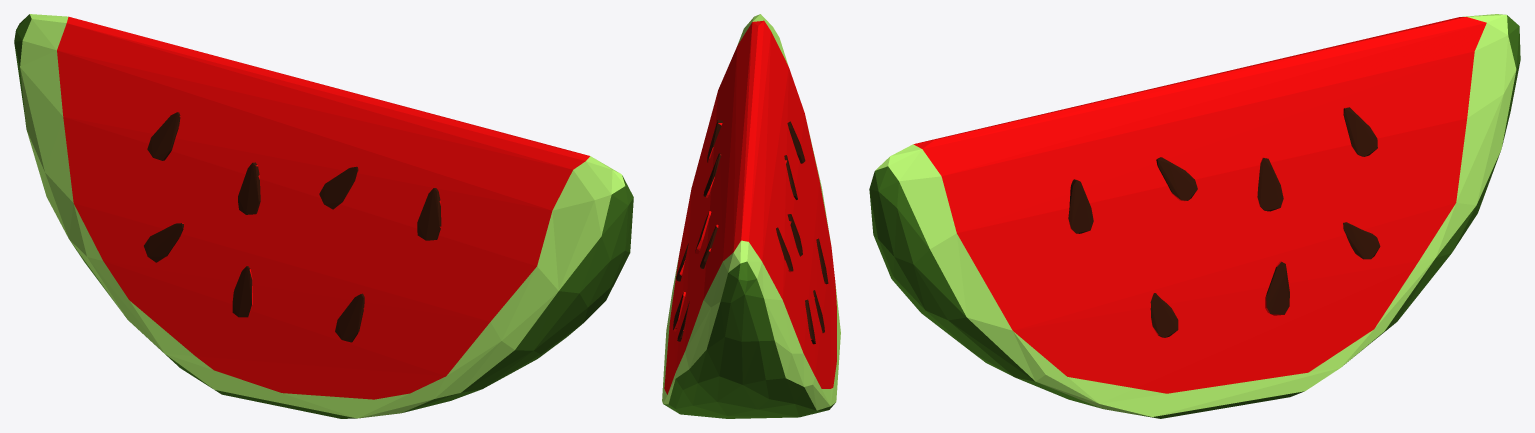
File: Cut_Watermelon.fbx
3 renders of one model, left to right at view 1: azimuth 30°, elevation 25°; view 2: azimuth 150°, elevation 25°; view 3: azimuth 270°, elevation 25°, orthographic. The views are drawn at different scales.
Visible parts, largest first — view 1: Cut_WaterMElon; view 2: Cut_WaterMElon; view 3: Cut_WaterMElon.
Part boxes in pixels (box(x1,y1,x2,y2)): Cut_WaterMElon: box(14, 14, 633, 418); Cut_WaterMElon: box(662, 14, 840, 418); Cut_WaterMElon: box(869, 14, 1520, 418).
Bounding box in the file's own units: 0.5853 × 0.5012 × 0.984.
